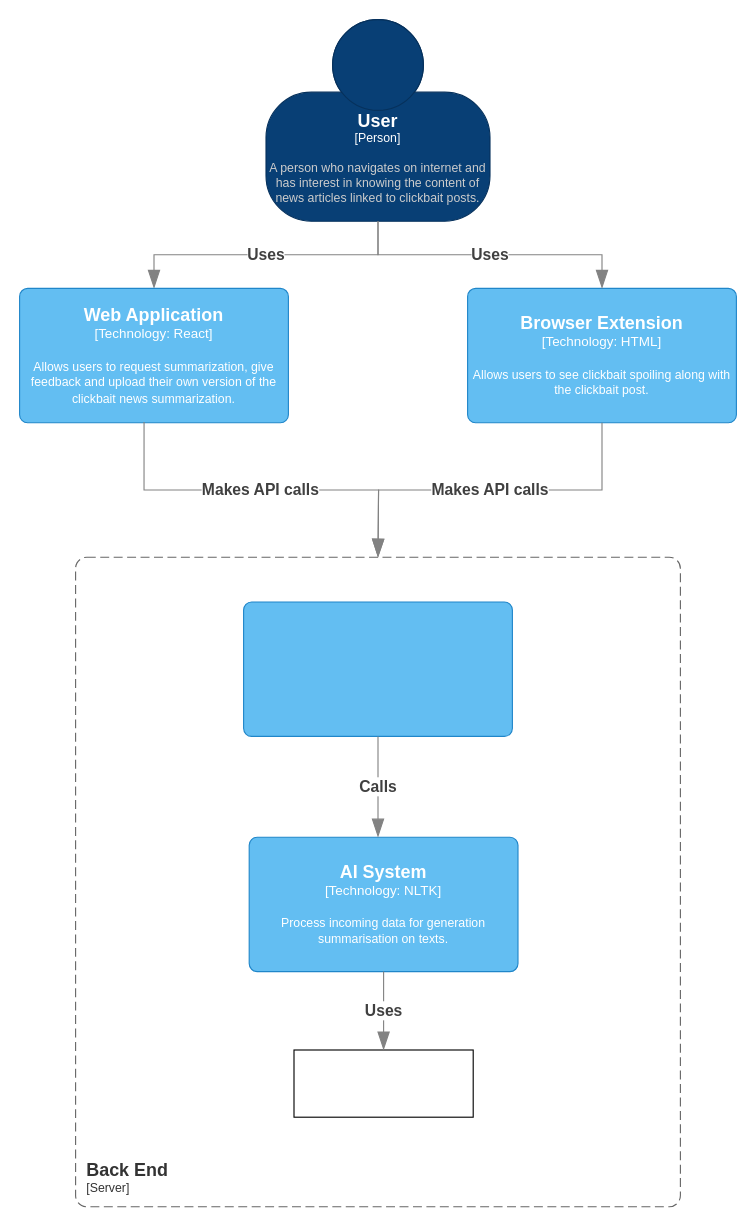
Image size: 756x1226. Some labels were removed from this diagram. The centre of each missing label's shape, as x and y in pixels:
API System [Technology: Python, REST] Interacts with the user interface.: point (377, 668)
Pre-Trained Model: point (383, 1083)
